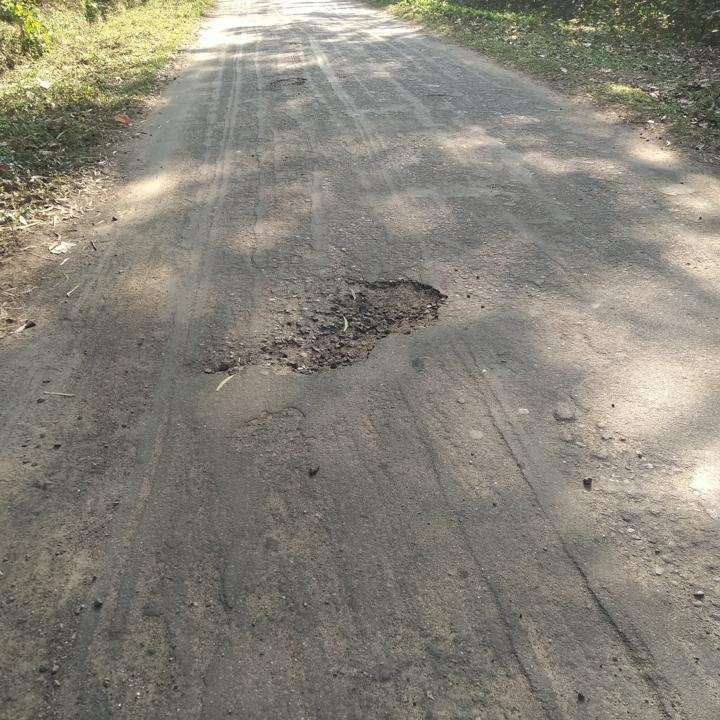pothole: (263, 274, 453, 376), (268, 72, 309, 90)
